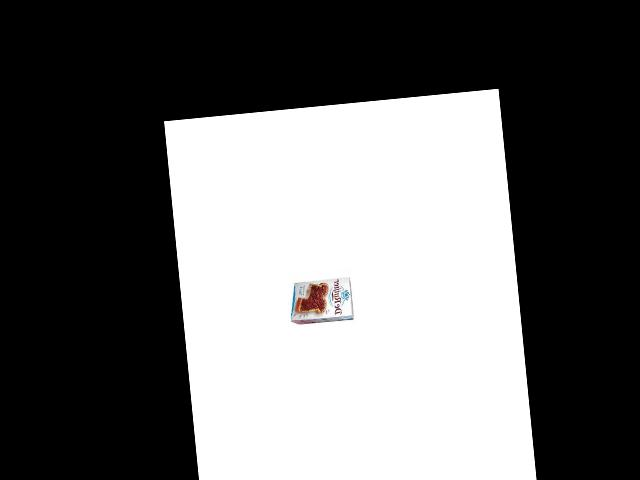chocolate: (288, 271, 358, 331)
